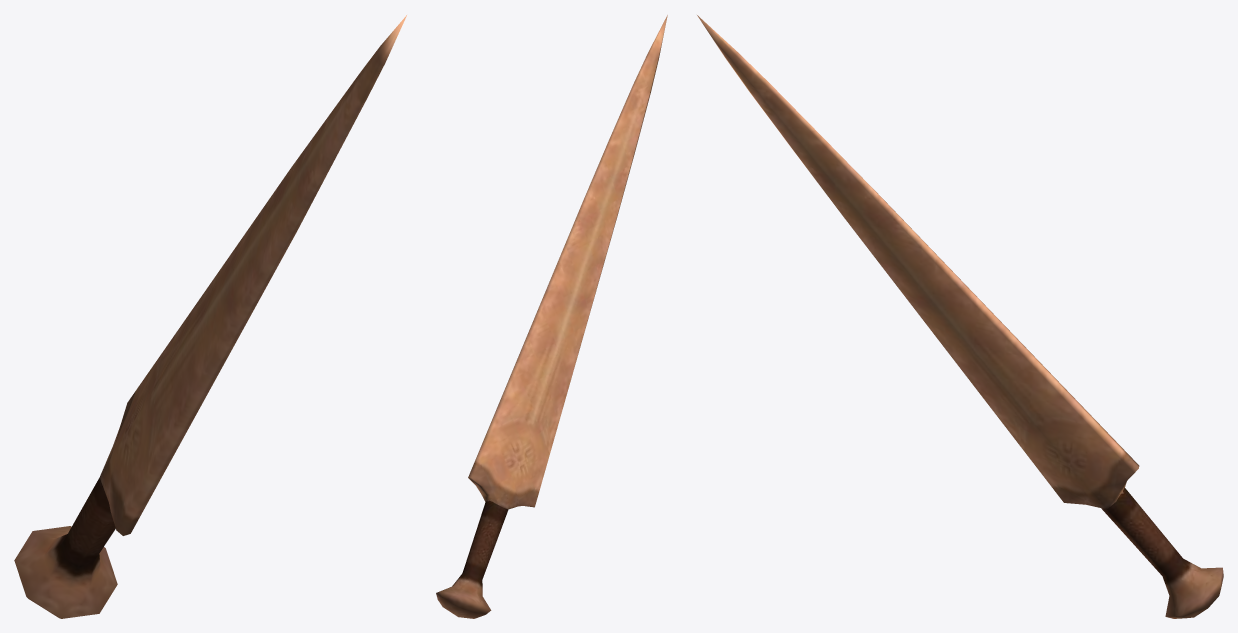
The model's file is rider-weapon-slice-ironweapons.glb.
3 views of the same model, side by side, from view 1: azimuth 30°, elevation 25°; view 2: azimuth 150°, elevation 25°; view 3: azimuth 270°, elevation 25° (orthographic). The views are drawn at different scales.
Size of the model in its own units: 0.0979 by 0.8851 by 0.7109.
Materials: 1 (1 with a texture image).
